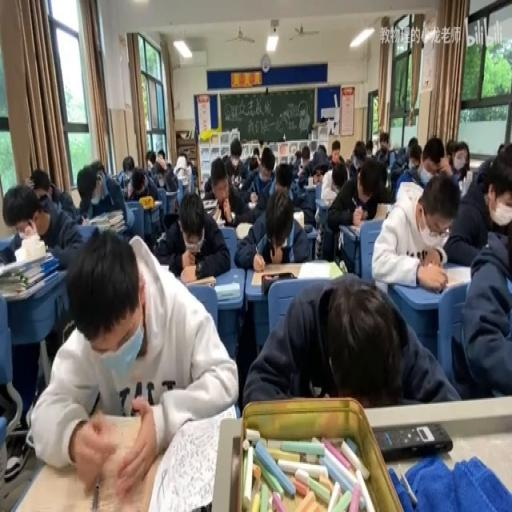calculator: (297, 260, 342, 280), (214, 282, 240, 300), (182, 273, 214, 286), (372, 202, 390, 222), (314, 196, 330, 218), (234, 222, 253, 240), (346, 219, 366, 235), (202, 196, 217, 209), (293, 210, 303, 228), (462, 168, 472, 185), (304, 220, 315, 234), (213, 205, 222, 222), (154, 232, 166, 244), (338, 257, 347, 273), (179, 175, 190, 186), (198, 189, 210, 199), (156, 262, 170, 270), (306, 176, 315, 188), (247, 199, 257, 209)
paper: (28, 227, 233, 495), (242, 274, 454, 410), (372, 168, 458, 289), (444, 151, 510, 269), (4, 175, 83, 267), (324, 152, 390, 262), (153, 188, 229, 277), (234, 185, 310, 269), (76, 158, 130, 232), (394, 139, 426, 199), (125, 165, 160, 219), (246, 149, 276, 202), (296, 142, 331, 186), (150, 151, 178, 192), (222, 135, 246, 181), (344, 140, 366, 180), (28, 168, 54, 199), (273, 158, 294, 196), (0, 231, 21, 263), (372, 129, 390, 165), (326, 140, 344, 174), (474, 154, 492, 179), (454, 145, 469, 174), (202, 164, 216, 194), (288, 148, 301, 175), (332, 170, 346, 194), (445, 138, 456, 161), (122, 155, 134, 176), (91, 160, 106, 176), (172, 155, 186, 172), (188, 170, 197, 194), (184, 152, 194, 171), (146, 150, 155, 170), (364, 139, 373, 158), (248, 155, 258, 171), (117, 168, 126, 185), (408, 136, 417, 150), (156, 149, 165, 161), (317, 144, 326, 155), (498, 144, 506, 156), (252, 145, 259, 157), (301, 154, 308, 165), (345, 156, 351, 168), (221, 154, 228, 162)
person: (374, 422, 451, 461), (261, 272, 296, 294)
